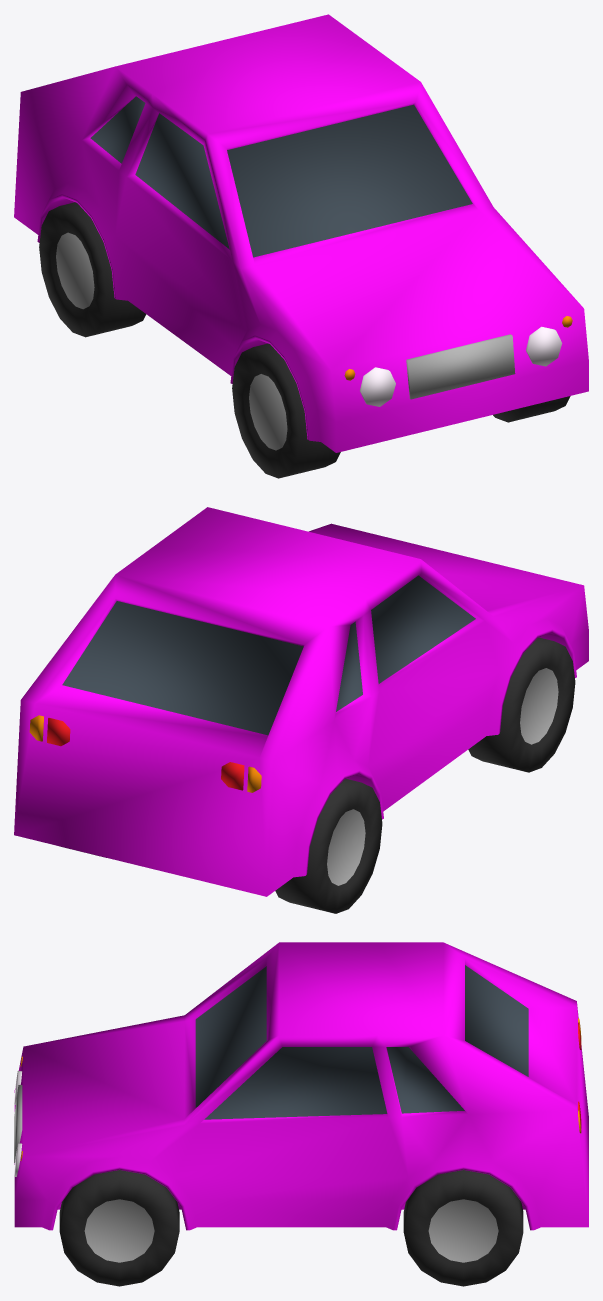
File: car_hatchback.gltf
The picture shows the model from 3 angles, top to bottom: view 1: azimuth 30°, elevation 25°; view 2: azimuth 150°, elevation 25°; view 3: azimuth 270°, elevation 25°; orthographic projection. The views are drawn at different scales.
Visible parts, largest first — view 1: car-hatchback; view 2: car-hatchback; view 3: car-hatchback.
Boxes of the visible parts, bbox=[...] form: car-hatchback: bbox=[14, 14, 588, 478]; car-hatchback: bbox=[14, 507, 588, 913]; car-hatchback: bbox=[14, 942, 588, 1286].
Bounding box in the file's own units: 1.78 × 1.65 × 3.61.
